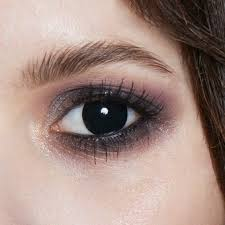pupil: (83, 97, 127, 134)
